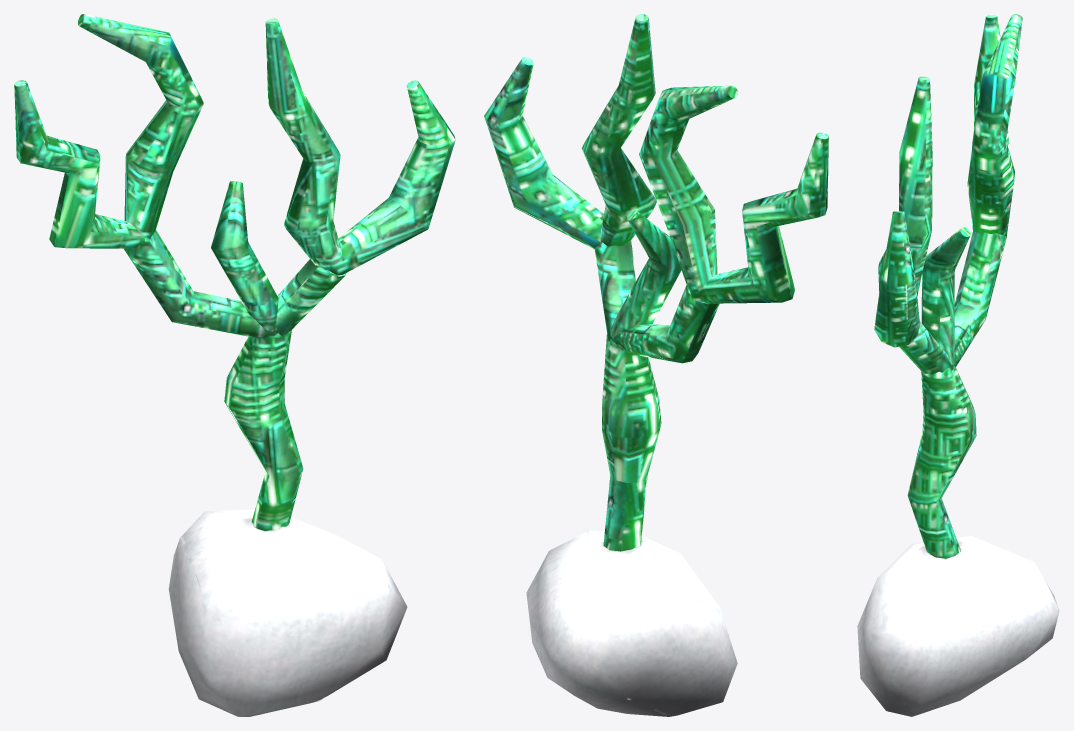
Rendered from LargeGreenGrass.glb.
The picture shows the model from 3 angles, left to right: view 1: azimuth 30°, elevation 25°; view 2: azimuth 150°, elevation 25°; view 3: azimuth 270°, elevation 25°; orthographic projection. The views are drawn at different scales.
Parts seen in each view (by area): view 1: 平面.004, 棱角球.003; view 2: 平面.004, 棱角球.003; view 3: 平面.004, 棱角球.003.
Boxes of the visible parts, x1,y1,x2,y2 form: 平面.004: (14,14,455,530); 棱角球.003: (168,509,407,716); 平面.004: (484,14,828,551); 棱角球.003: (526,530,737,716); 平面.004: (874,14,1022,558); 棱角球.003: (857,536,1059,716).
Size of what is drawn, in the model's own units: 5.61 by 9.52 by 2.78.
Materials: 2 (2 with a texture image).
